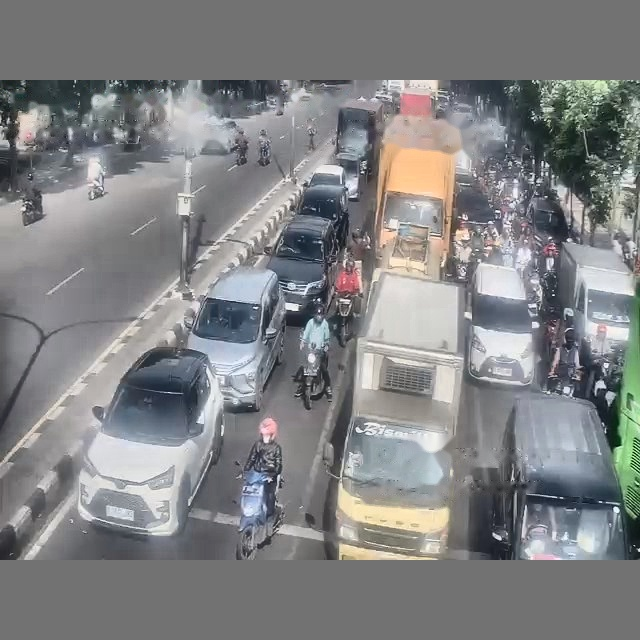Mobil: (77, 347, 223, 536), (184, 266, 285, 410), (465, 263, 538, 385), (264, 216, 339, 315), (297, 184, 348, 248), (527, 197, 569, 246), (303, 164, 348, 209), (336, 152, 361, 200), (200, 120, 235, 154), (304, 164, 345, 186), (298, 89, 312, 101)
Motor: (236, 470, 282, 559), (301, 345, 325, 409), (546, 367, 581, 397), (337, 293, 353, 347), (21, 198, 43, 225), (88, 180, 104, 200), (258, 141, 270, 165), (236, 145, 246, 165)
Truk: (335, 272, 464, 559), (373, 115, 462, 279), (558, 242, 633, 363)
